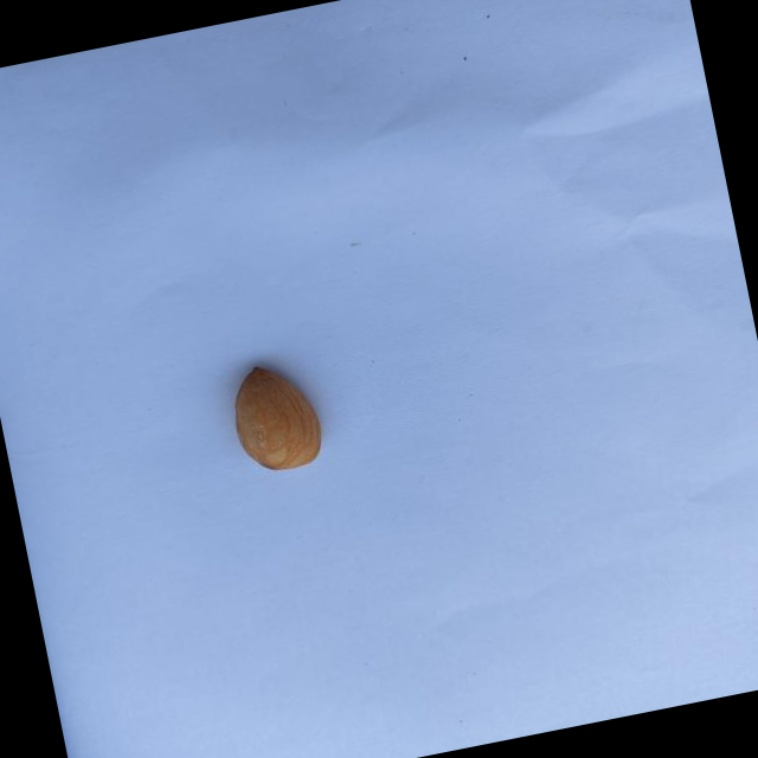grade2: (221, 352, 336, 482)
